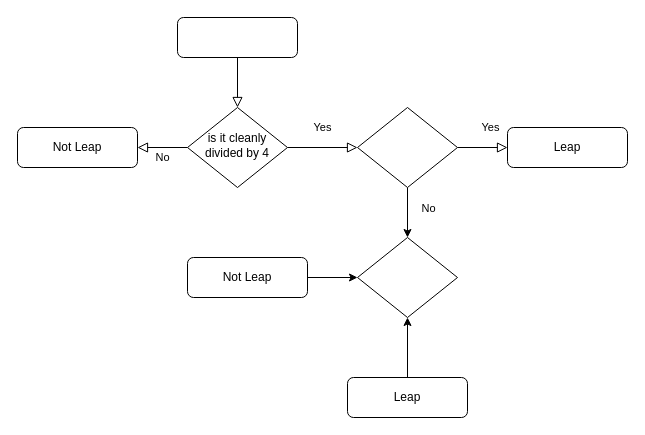
The diagram is 645 pixels wide and 435 high, and some of its shapes have lost their labels. The box of each missing label's shape, as (x1, y1, x2, y2) in pixels:
is it cleanly divided by 100: (356, 106, 458, 188)
is it cleanly divided by 5: (356, 236, 458, 318)
Leap Year: (176, 16, 298, 58)
